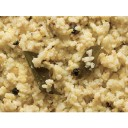venpongal: (2, 18, 127, 112)
